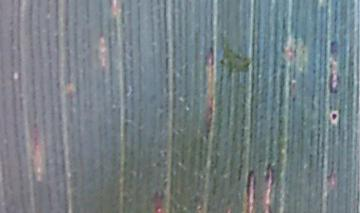tarspot: (330, 109, 339, 123)
